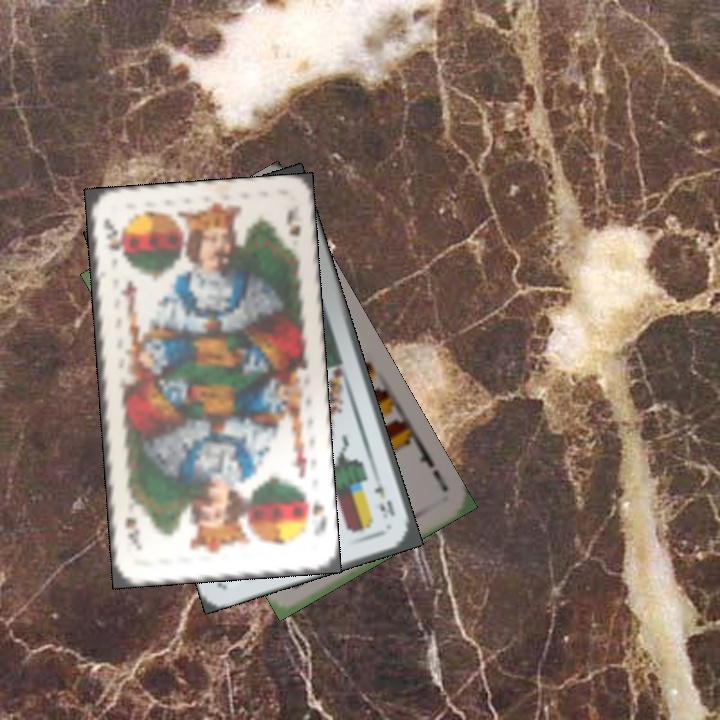E7: (414, 441, 451, 494)
EK: (369, 469, 397, 519)
SK: (99, 213, 123, 252), (308, 498, 329, 539)
